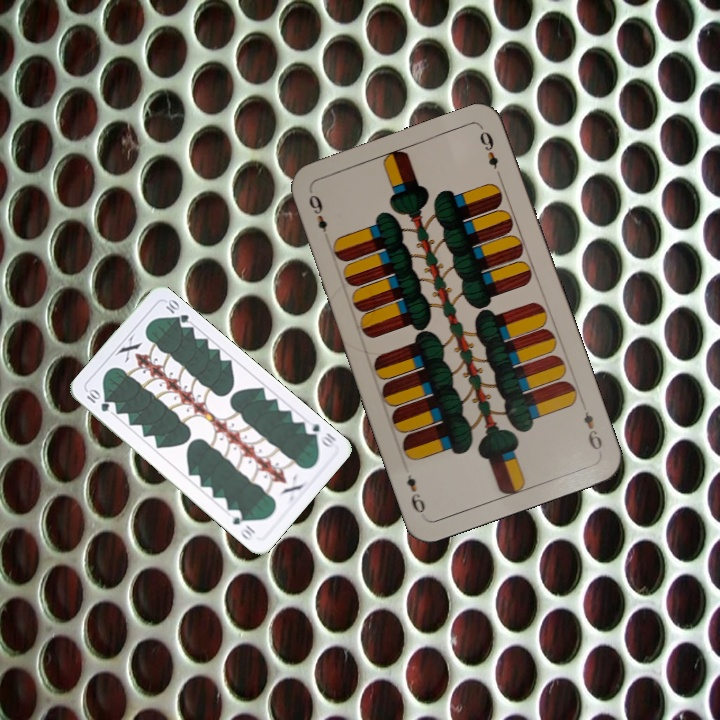E9: (579, 407, 605, 453), (304, 190, 330, 235)
G10: (300, 417, 339, 451), (82, 385, 112, 415)
